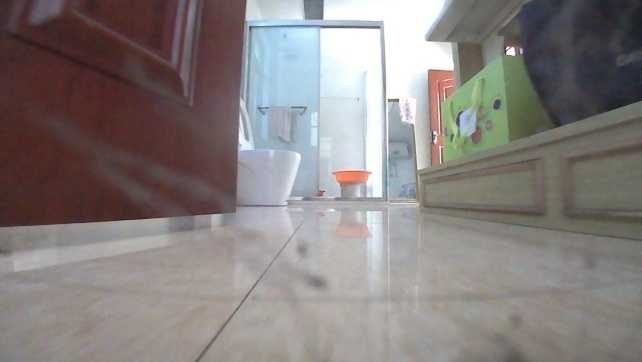toilet: (232, 94, 302, 205)
